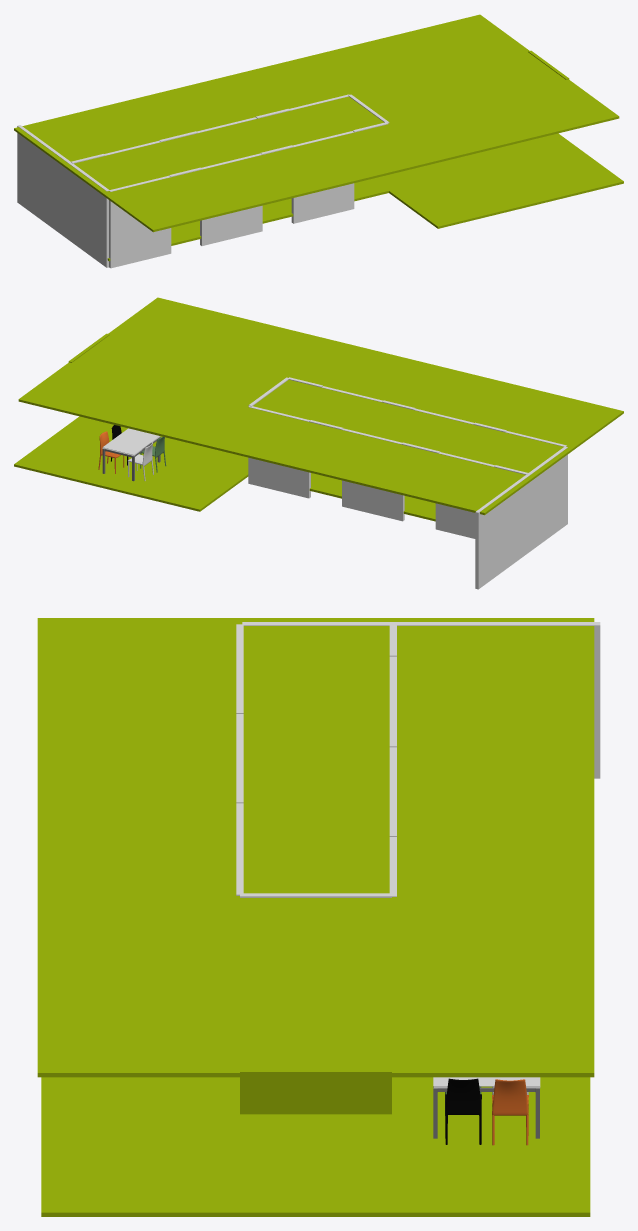
File: chaoteto.fbx
The picture shows the model from 3 angles, top to bottom: view 1: azimuth 30°, elevation 25°; view 2: azimuth 150°, elevation 25°; view 3: azimuth 270°, elevation 25°; orthographic projection. The views are drawn at different scales.
Visible parts, largest first — view 1: Cube.023, Cube.001, Cube.002, Cube.007, Cube.009, Cube.008, Cube.016; view 2: Cube.023, Cube.001, Cube.002, Cube.006, Cube.005, Cube.004, Cube.016, mesa-vidrio; view 3: Cube.023, Cube.001, Cube.003, Cube.002, Cube.020, Cube.019.
Part boxes in pixels (x1,y1,x2,y2): Cube.023: (14,14,619,232); Cube.001: (373,133,623,228); Cube.002: (17,125,109,267); Cube.007: (109,175,171,268); Cube.009: (291,131,354,223); Cube.008: (200,153,262,245); Cube.016: (107,178,388,261); Cube.023: (18,297,623,515); Cube.001: (14,416,248,511); Cube.002: (475,446,567,589); Cube.006: (248,406,310,498); Cube.005: (342,428,404,521); Cube.004: (435,452,494,538); Cube.016: (309,473,435,521); mesa-vidrio: (102,428,159,455); Cube.023: (37,618,594,1077); Cube.001: (41,1077,590,1216); Cube.003: (240,1069,391,1114); Cube.002: (242,622,600,778); Cube.020: (492,1079,528,1115); Cube.019: (445,1078,481,1114).
Size of the model in its own units: 1862 by 291 by 962.
